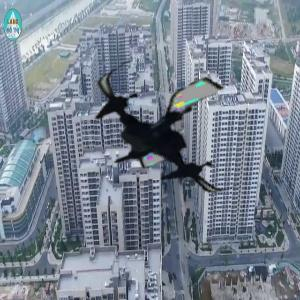drone: (86, 52, 245, 211)
